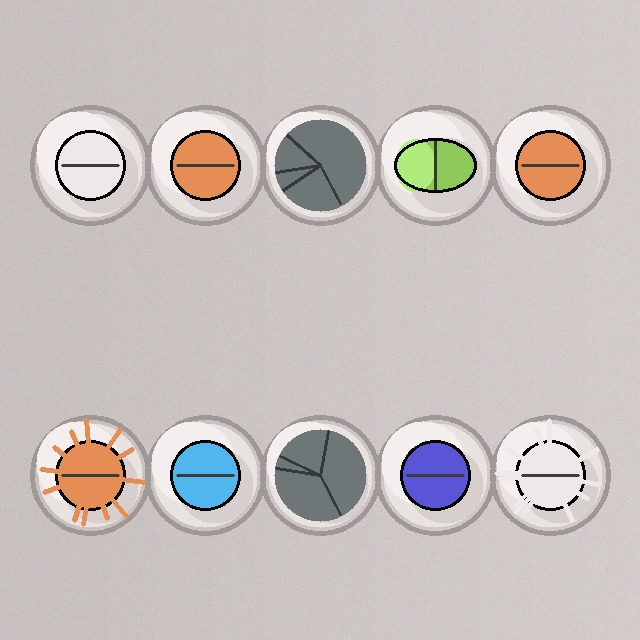empty: (258, 103, 382, 227), (258, 413, 382, 537)
flash: (28, 413, 152, 537), (488, 413, 612, 537)
